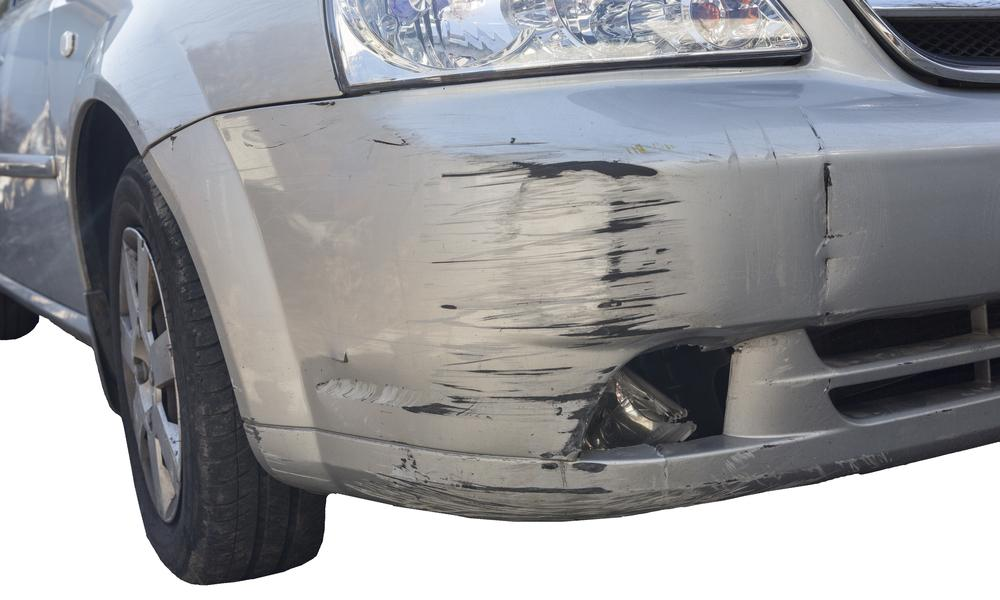dent: (797, 155, 869, 301)
scratch: (243, 100, 910, 524)
